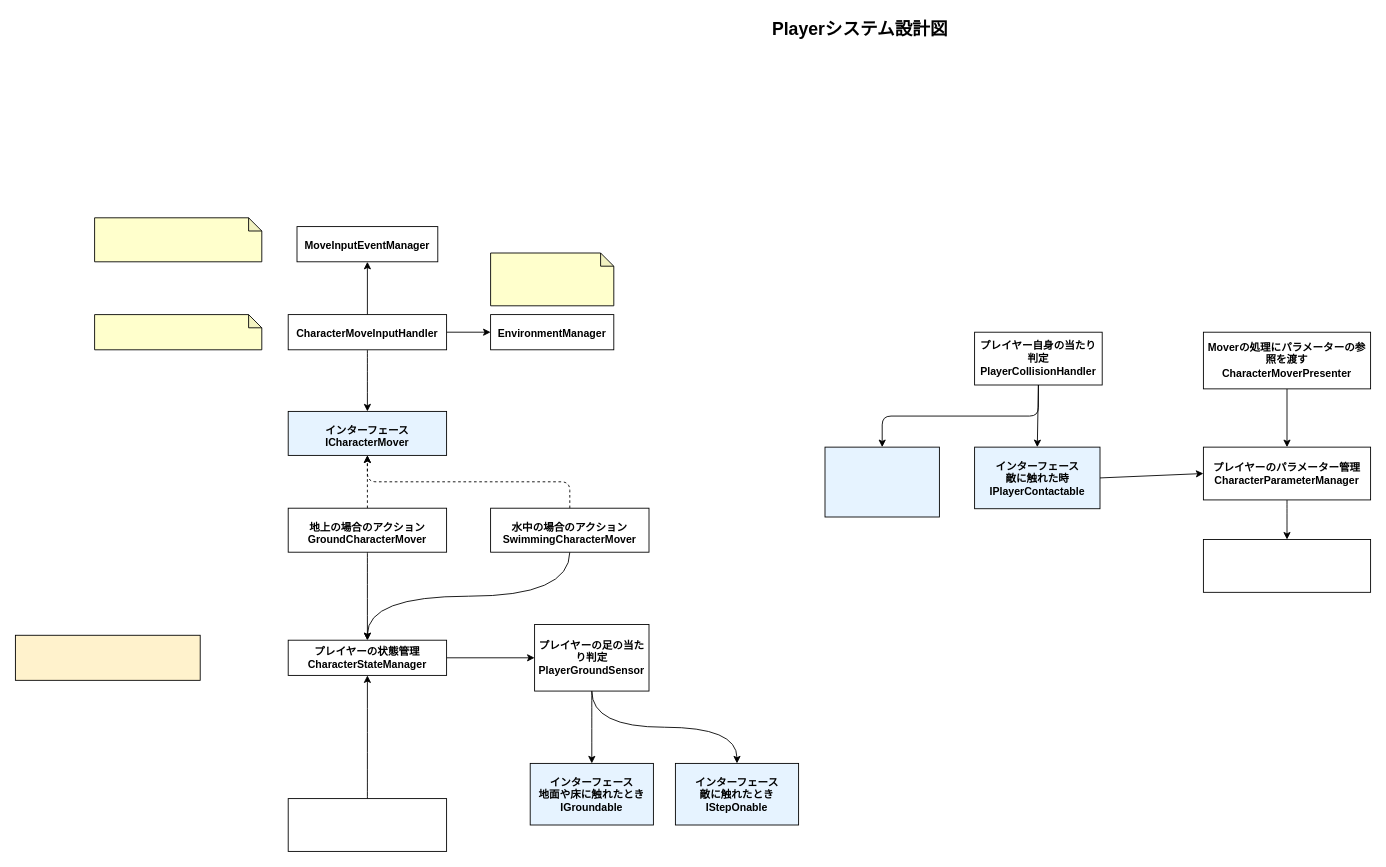
This 1386x867 diagram has some shape labels left out. Here are the shapes that lost their labels. From the top down, the box of each, then its label:
(94, 217, 262, 262): 移動に関するキー入力イベント を受け取り、イベントを発行
(490, 252, 614, 306): 地上か水中なのか 判定をする
(94, 314, 262, 350): イベントを購読して、 Move処理を呼び出す
(824, 446, 939, 517): インターフェース スイッチなどのオブジェクトに触れた時 IPlayerTriggerable
(1203, 539, 1371, 592): スクリプタブルオブジェクト CharacterParameter
(15, 634, 200, 680): enumで状態を宣言 CharacterState
(287, 798, 447, 851): 状態を購読してアニメーションを切り替える処理 AnimationController
